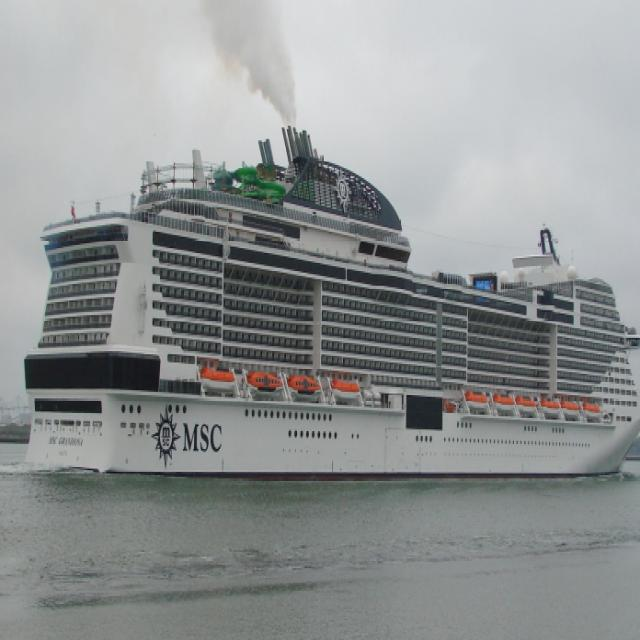cruises: (20, 114, 640, 494)
